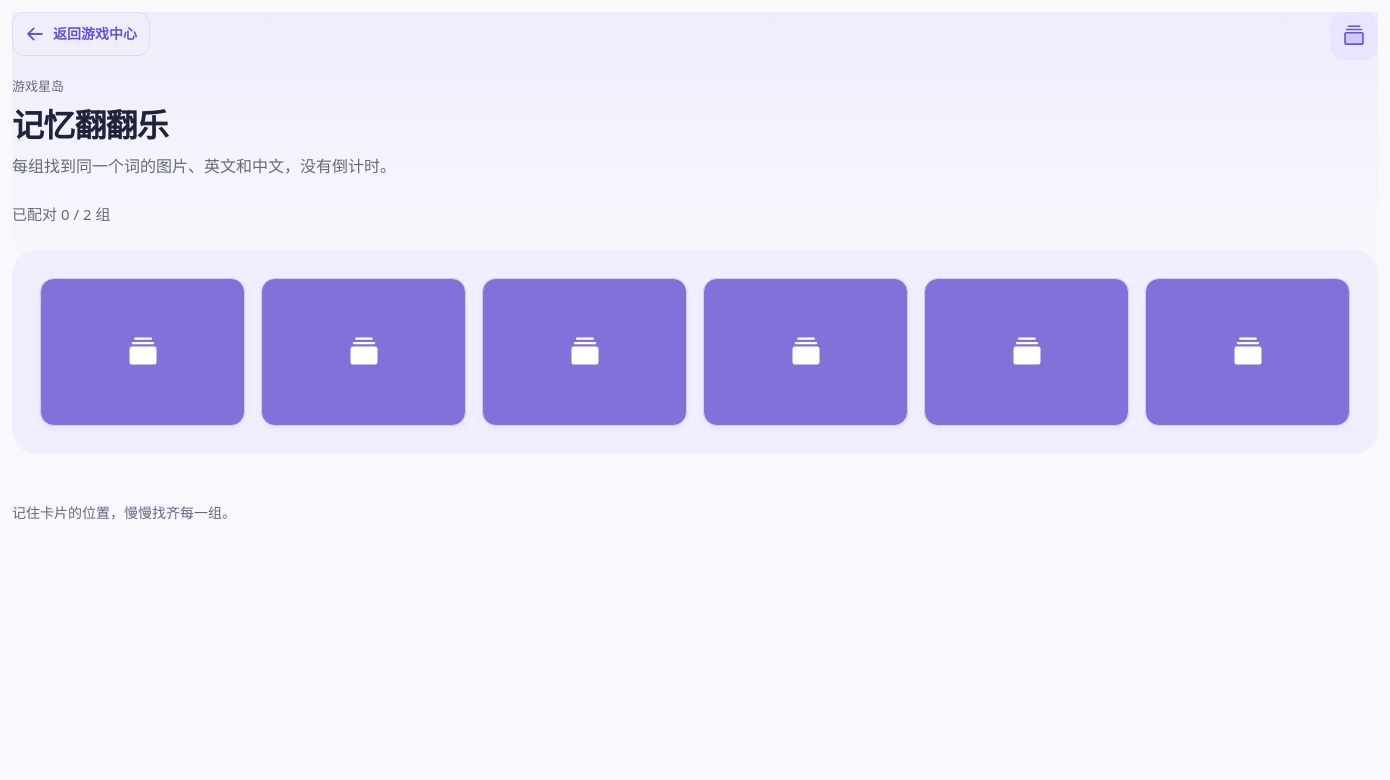
Test: MemoryFlipGame › keeps a nonmatching trio open until the explicit continue action, then closes only those cards
Click the button named "未翻开的记忆卡片" at [364, 352], box [261,278,466,426]
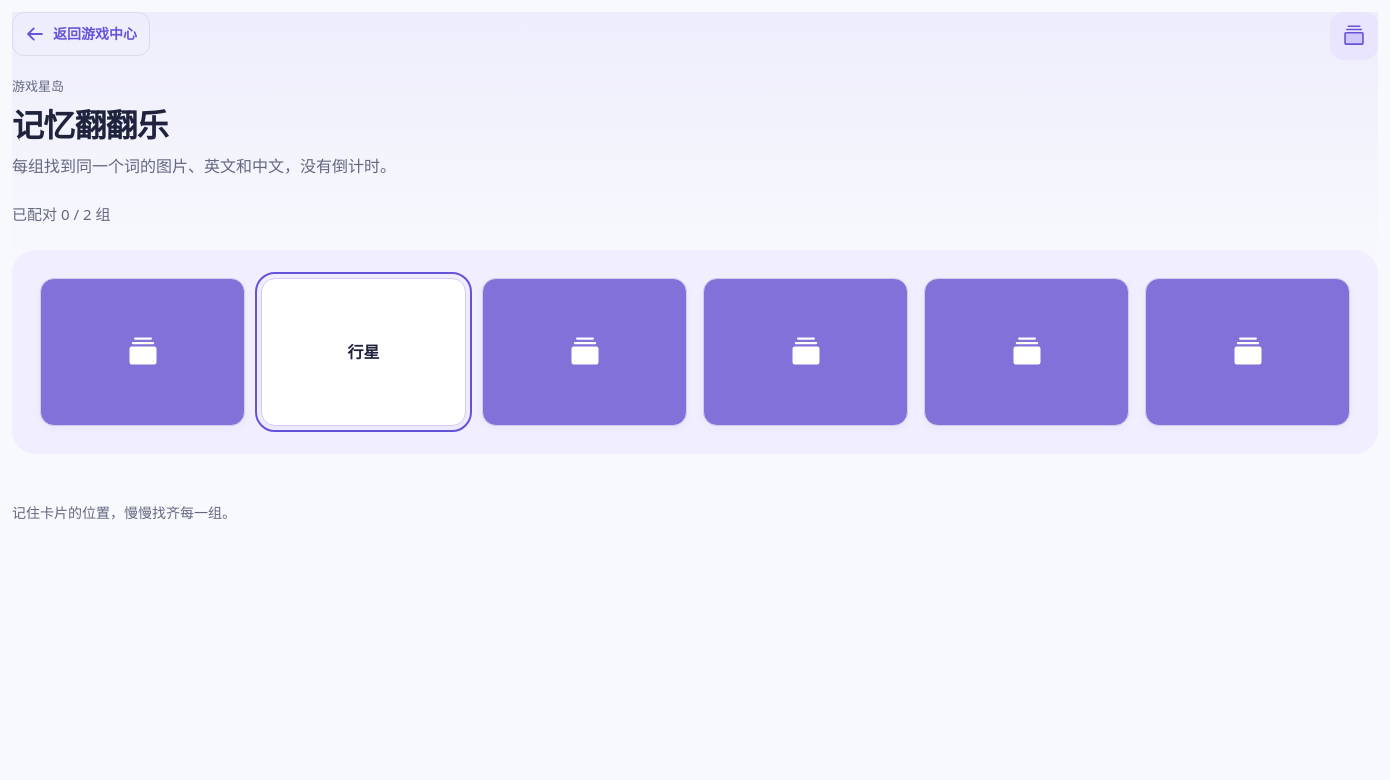
Click the button named "未翻开的记忆卡片" at [1026, 352], box [924,278,1129,426]
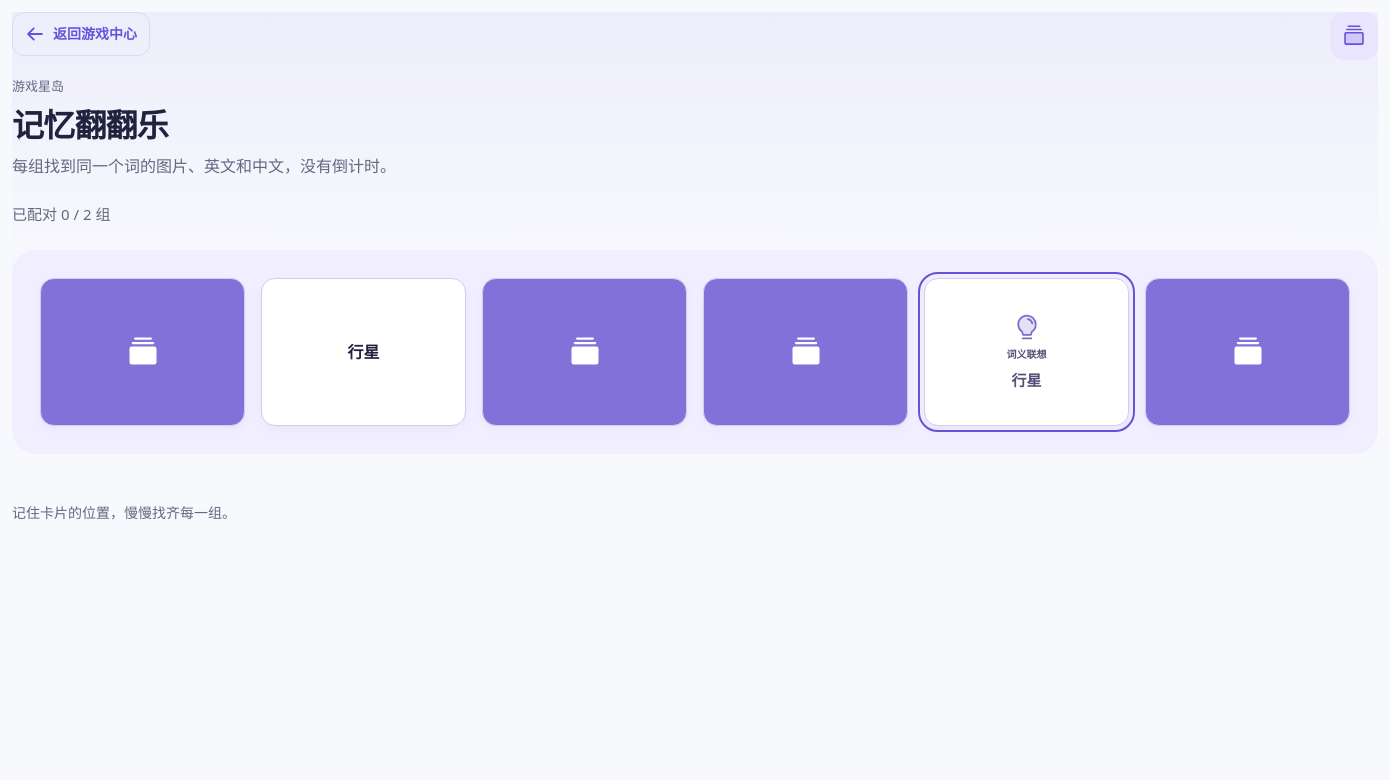
Click the button named "未翻开的记忆卡片" at [142, 352], box [40,278,245,426]
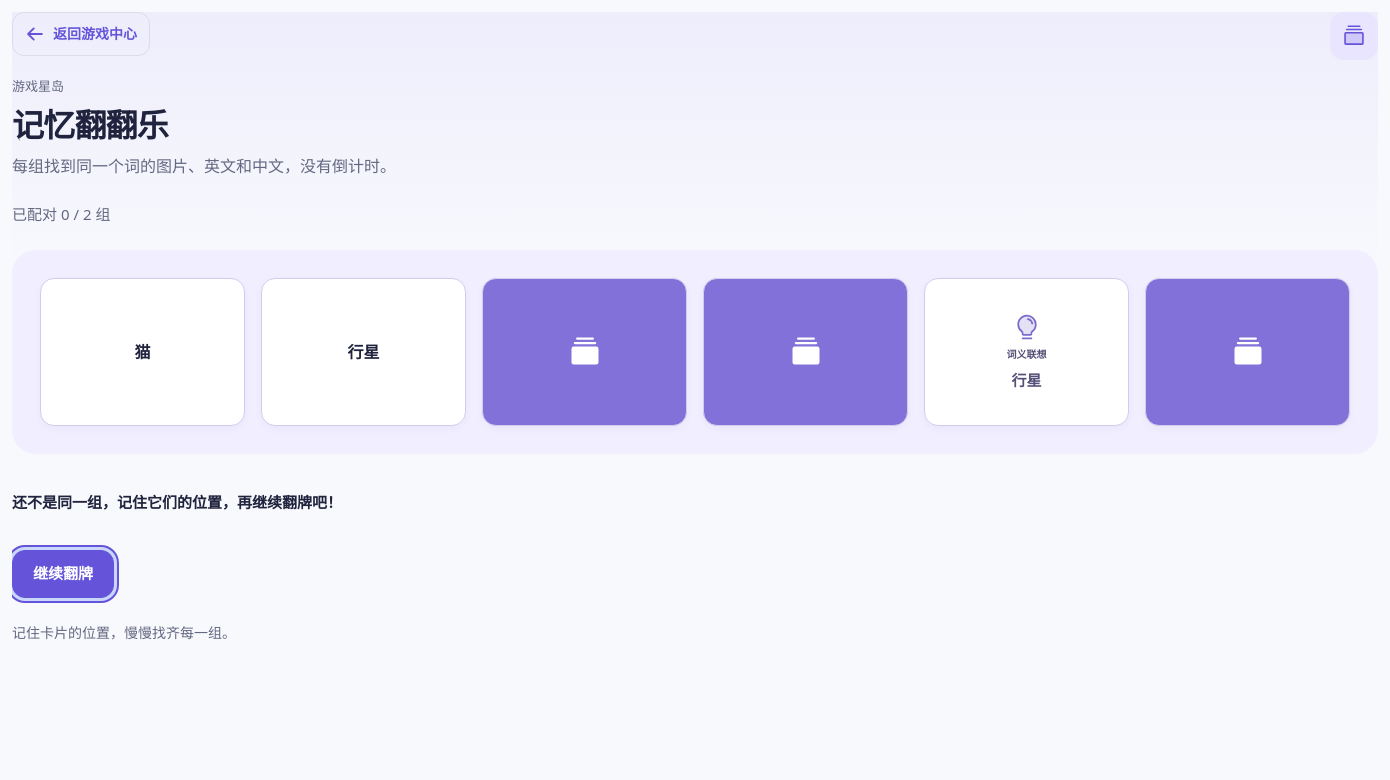
Check: the message shows "还不是同一组", box [12,492,342,512]
Click the button "继续翻牌" at [63, 574], box [12,550,114,598]
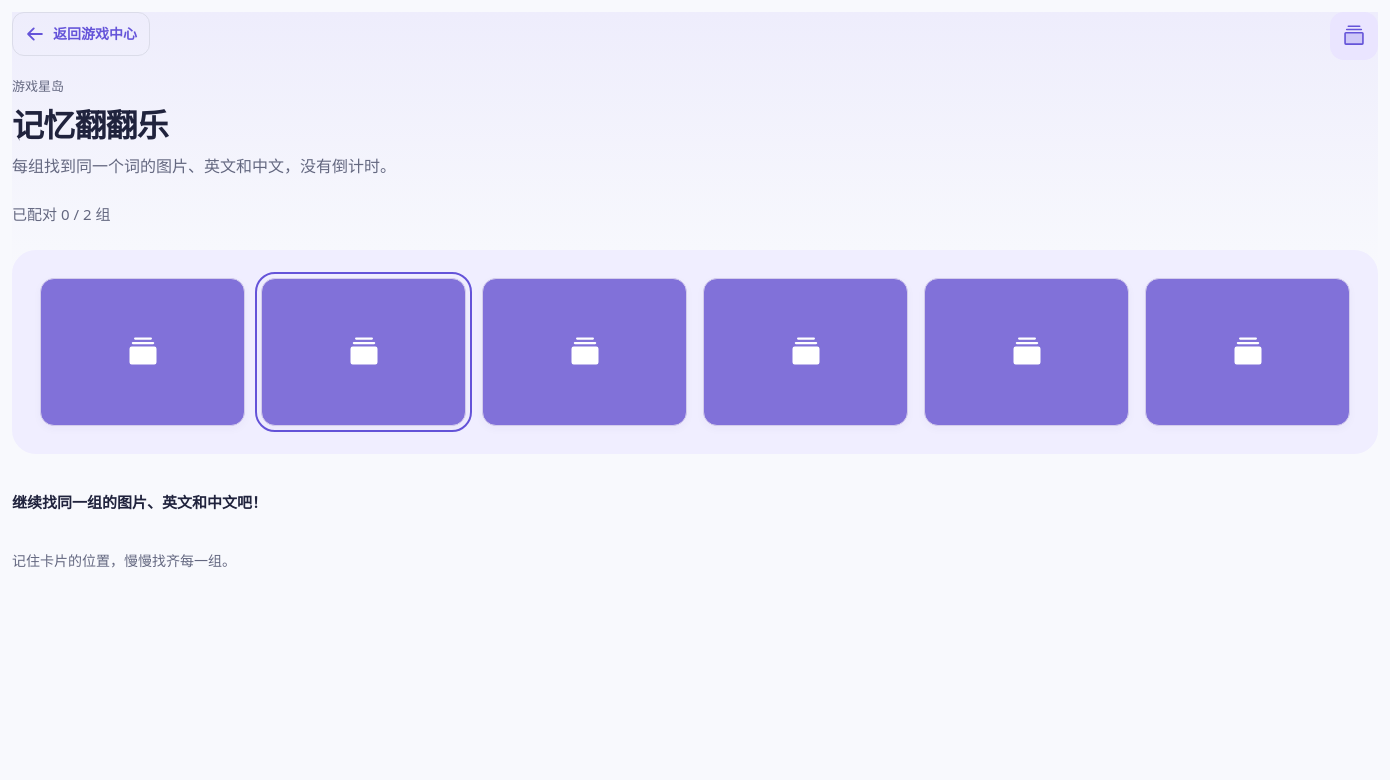
Check: the number of buttons named "未翻开的记忆卡片" is 6, box [40,278,245,426]; [261,278,466,426]; [482,278,687,426]; [703,278,908,426]; [924,278,1129,426]; [1145,278,1350,426]
Check: the button named "未翻开的记忆卡片" is enabled, box [261,278,466,426]
